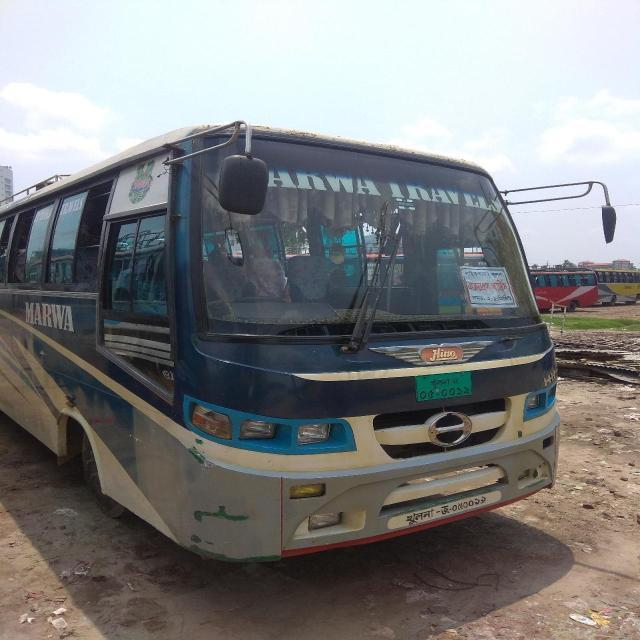numberplate: (385, 490, 502, 532), (413, 370, 473, 401)
